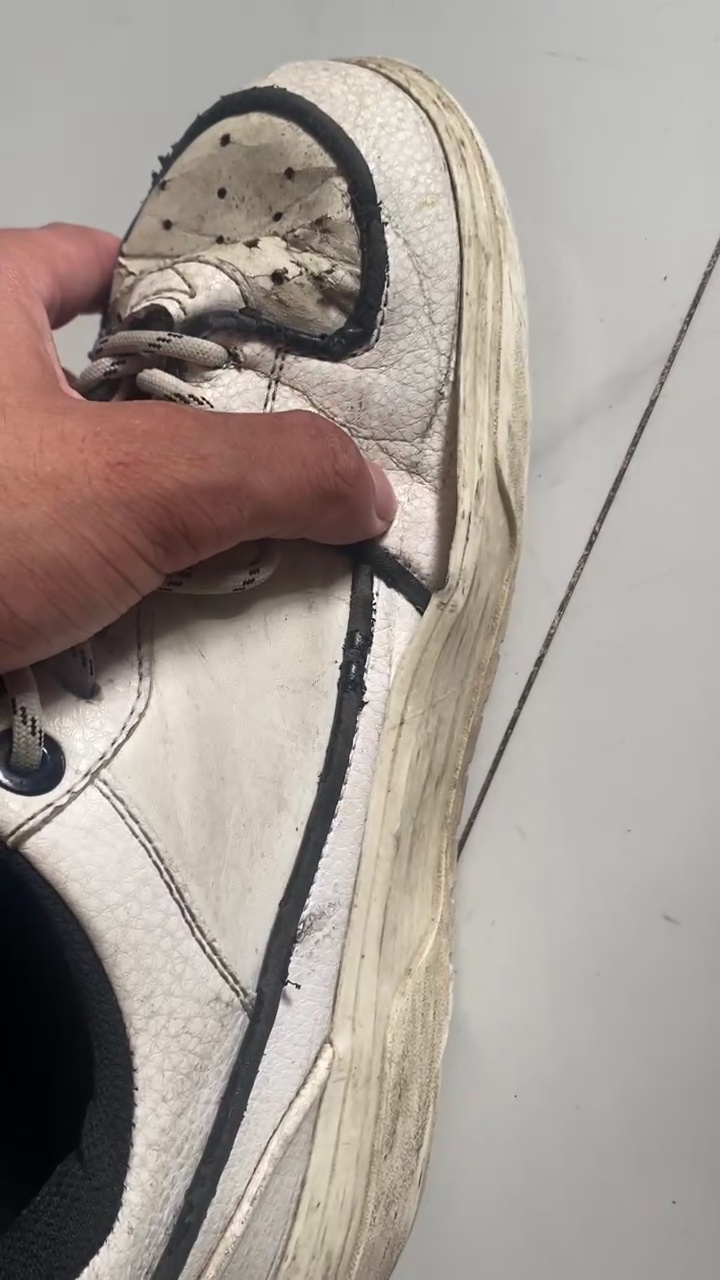bonding: (407, 424, 472, 543), (382, 543, 453, 646)
